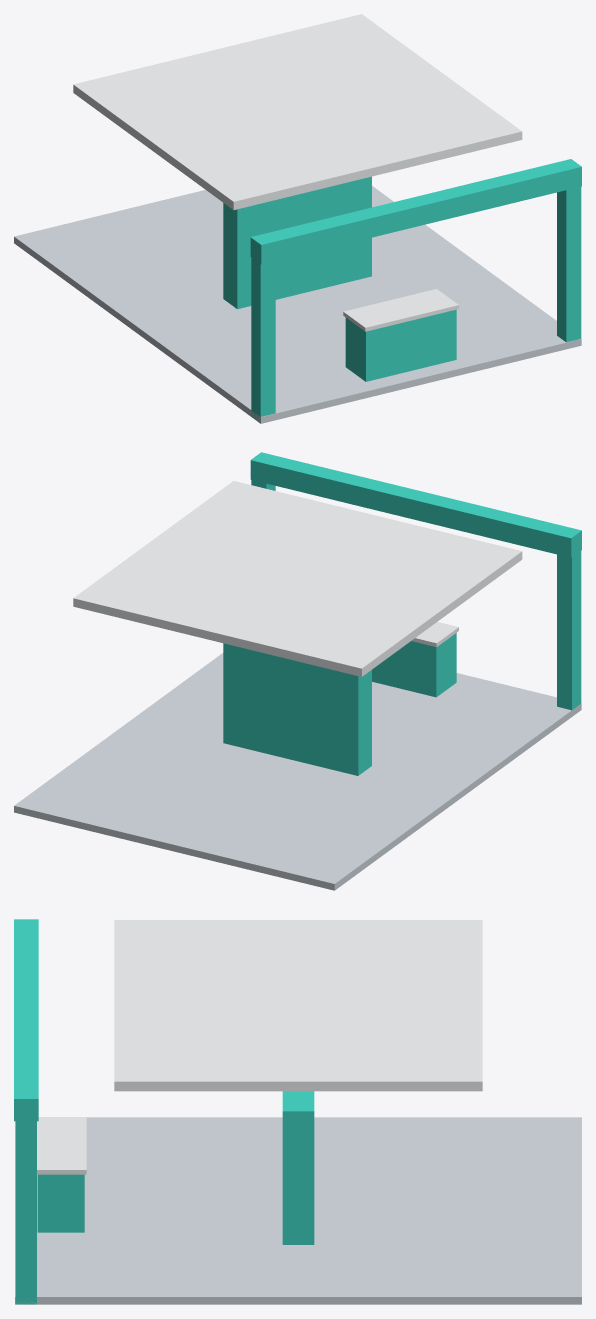
3 renders of one model, top to bottom at view 1: azimuth 30°, elevation 25°; view 2: azimuth 150°, elevation 25°; view 3: azimuth 270°, elevation 25°, orthographic. The views are drawn at different scales.
Parts seen in each view (by area): view 1: Exhibition Booth Concept; view 2: Exhibition Booth Concept; view 3: Exhibition Booth Concept.
Part boxes in pixels (bbox=[...]): Exhibition Booth Concept: bbox=[14, 14, 581, 423]; Exhibition Booth Concept: bbox=[14, 452, 581, 890]; Exhibition Booth Concept: bbox=[14, 919, 581, 1304].
Size of the model in its own units: 6 by 3.34 by 8.01.
